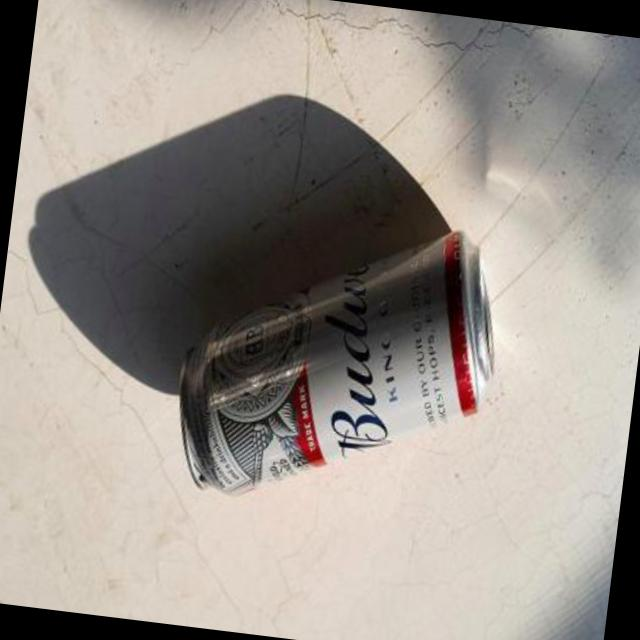metal: (181, 235, 494, 495)
